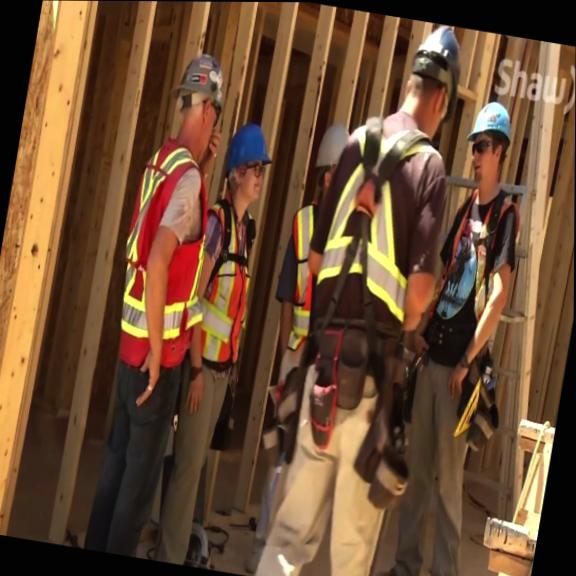safety_vest: (311, 108, 447, 327), (105, 134, 229, 365), (425, 182, 524, 335), (184, 191, 268, 367), (270, 196, 331, 351)
